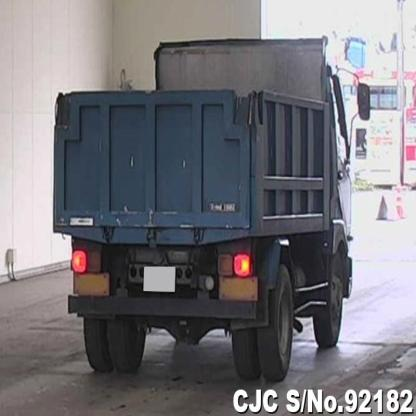truck: (56, 33, 371, 383)
